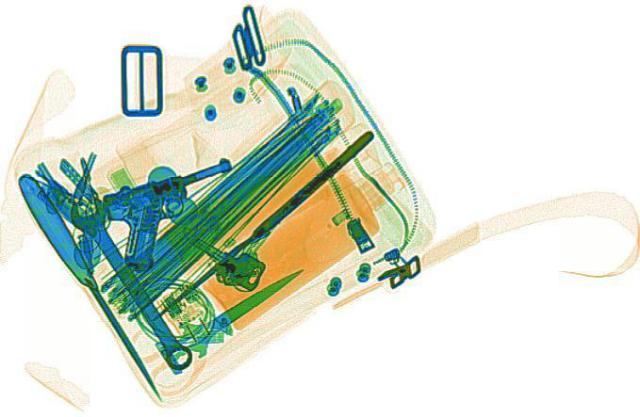Gun: (75, 159, 278, 272)
Knife: (8, 175, 174, 400), (147, 255, 325, 361)
Wrench: (57, 196, 201, 371)
